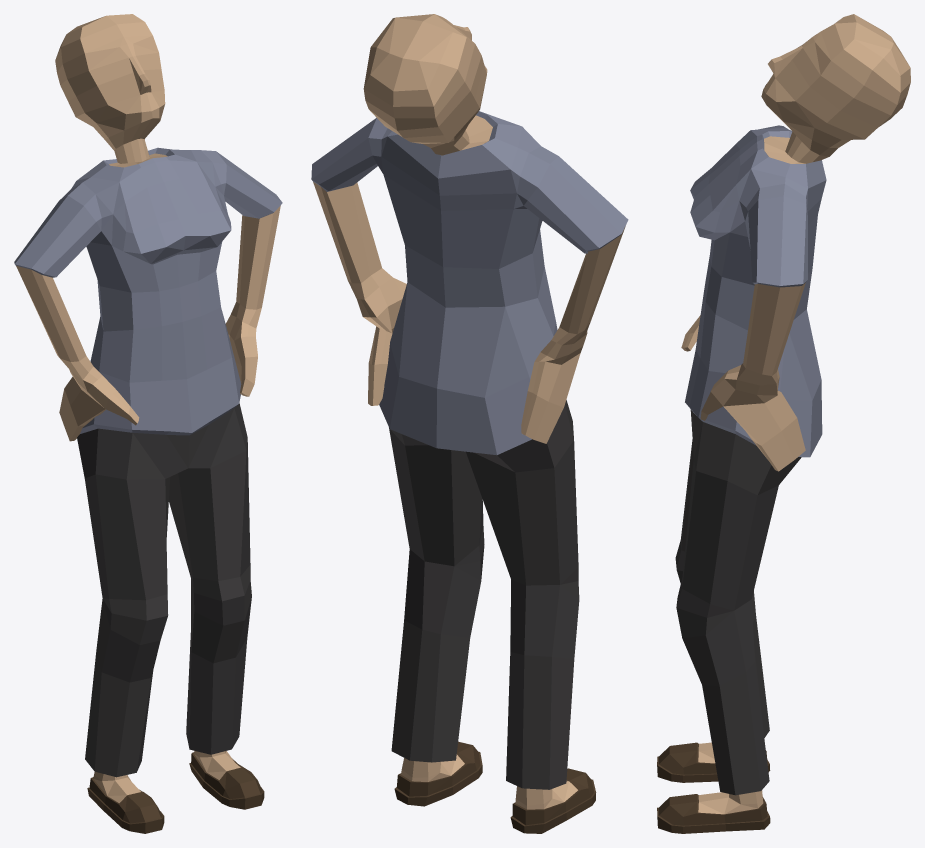
The model's file is Female_LookingUp.glb.
3 views of the same model, side by side, from view 1: azimuth 30°, elevation 25°; view 2: azimuth 150°, elevation 25°; view 3: azimuth 270°, elevation 25° (orthographic). The views are drawn at different scales.
Parts seen in each view (by area): view 1: Female_LookingUp; view 2: Female_LookingUp; view 3: Female_LookingUp.
Boxes of the visible parts, bbox=[...] form: Female_LookingUp: bbox=[14, 14, 282, 833]; Female_LookingUp: bbox=[311, 14, 628, 833]; Female_LookingUp: bbox=[657, 14, 910, 833].
Size of the model in its own units: 1.36 by 3.59 by 1.07.
